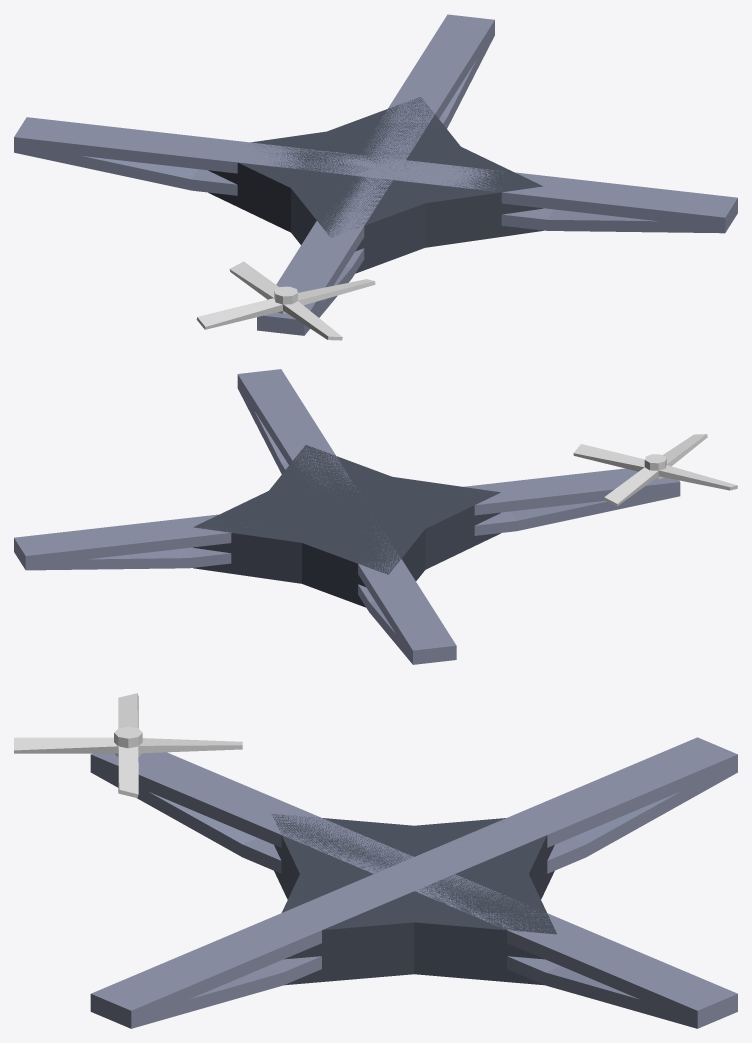
The model's file is Drone.fbx.
The picture shows the model from 3 angles, top to bottom: view 1: azimuth 30°, elevation 25°; view 2: azimuth 150°, elevation 25°; view 3: azimuth 270°, elevation 25°; orthographic projection. The views are drawn at different scales.
Visible parts, largest first — view 1: Cube, Cube.001; view 2: Cube, Cube.001; view 3: Cube, Cube.001.
Part boxes in pixels (box(x1,y1,x2,y2)): Cube: box(14, 14, 737, 335); Cube.001: box(196, 261, 375, 340); Cube: box(14, 369, 680, 664); Cube.001: box(573, 434, 737, 506); Cube: box(90, 737, 737, 1028); Cube.001: box(14, 693, 242, 797).
Size of the model in its own units: 506 by 63.32 by 506.
